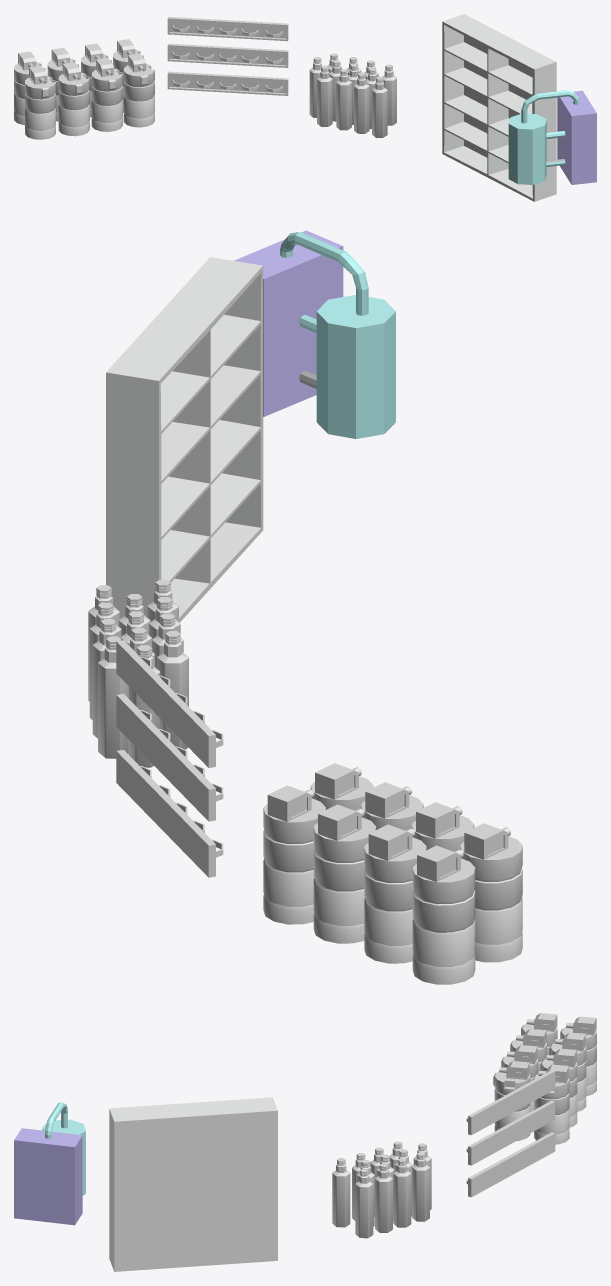
File: lifesupport.fbx
3 views of the same model, one above another, from view 1: azimuth 30°, elevation 25°; view 2: azimuth 150°, elevation 25°; view 3: azimuth 270°, elevation 25° (orthographic). The views are drawn at different scales.
Visible parts, largest first — view 1: medicine cabinet.002, Cube.009, Cylinder.040, Cube.012, Cube.005, Cube.017, Cube.014, Cube.015, Cylinder.035, Cylinder.034, Cylinder.036, Cylinder.037 (+7 smaller); view 2: medicine cabinet.002, Cylinder.040, Cube.009, Cube.015, Cube.011, Cube.004, Cube.013, Cube.014, Cylinder.002, Cube.012, Cube.005, Cube.017 (+3 smaller); view 3: medicine cabinet.002, Cylinder.040, Cube.009, Cube.004, Cube.017, Cube.015, Cylinder.037, Cylinder.027, Cylinder.029, Cube.013, Cylinder.002, Cylinder.028 (+5 smaller).
Part boxes in pixels (x1=…): medicine cabinet.002: x1=442, y1=14, x2=556, y2=201; Cube.009: x1=167, y1=16, x2=288, y2=95; Cylinder.040: x1=508, y1=90, x2=596, y2=184; Cube.012: x1=58, y1=62, x2=89, y2=136; Cube.005: x1=91, y1=58, x2=122, y2=131; Cube.017: x1=123, y1=53, x2=154, y2=127; Cube.014: x1=25, y1=65, x2=55, y2=139; Cube.015: x1=14, y1=51, x2=45, y2=125; Cylinder.035: x1=336, y1=69, x2=351, y2=130; Cylinder.034: x1=317, y1=65, x2=332, y2=126; Cylinder.036: x1=354, y1=72, x2=369, y2=133; Cylinder.037: x1=372, y1=76, x2=387, y2=137; medicine cabinet.002: x1=106, y1=257, x2=263, y2=622; Cylinder.040: x1=234, y1=230, x2=395, y2=438; Cube.009: x1=116, y1=640, x2=223, y2=877; Cube.015: x1=412, y1=845, x2=475, y2=984; Cube.011: x1=313, y1=804, x2=376, y2=943; Cube.004: x1=263, y1=785, x2=325, y2=924; Cube.013: x1=364, y1=824, x2=426, y2=963; Cube.014: x1=460, y1=823, x2=522, y2=962; Cylinder.002: x1=98, y1=636, x2=128, y2=758; Cube.012: x1=411, y1=802, x2=474, y2=851; Cube.005: x1=361, y1=782, x2=423, y2=830; Cube.017: x1=310, y1=763, x2=373, y2=810; medicine cabinet.002: x1=109, y1=1097, x2=277, y2=1271; Cylinder.040: x1=14, y1=1102, x2=85, y2=1225; Cube.009: x1=466, y1=1070, x2=555, y2=1197; Cube.004: x1=533, y1=1064, x2=569, y2=1144; Cube.017: x1=493, y1=1061, x2=530, y2=1140; Cube.015: x1=560, y1=1016, x2=596, y2=1096; Cylinder.037: x1=332, y1=1158, x2=350, y2=1227; Cylinder.027: x1=393, y1=1158, x2=411, y2=1227; Cylinder.029: x1=355, y1=1169, x2=373, y2=1238; Cube.013: x1=549, y1=1032, x2=586, y2=1111; Cylinder.002: x1=412, y1=1152, x2=429, y2=1221; Cylinder.028: x1=375, y1=1163, x2=392, y2=1232.
Bounding box in the file's own units: 735 × 265 × 933.
